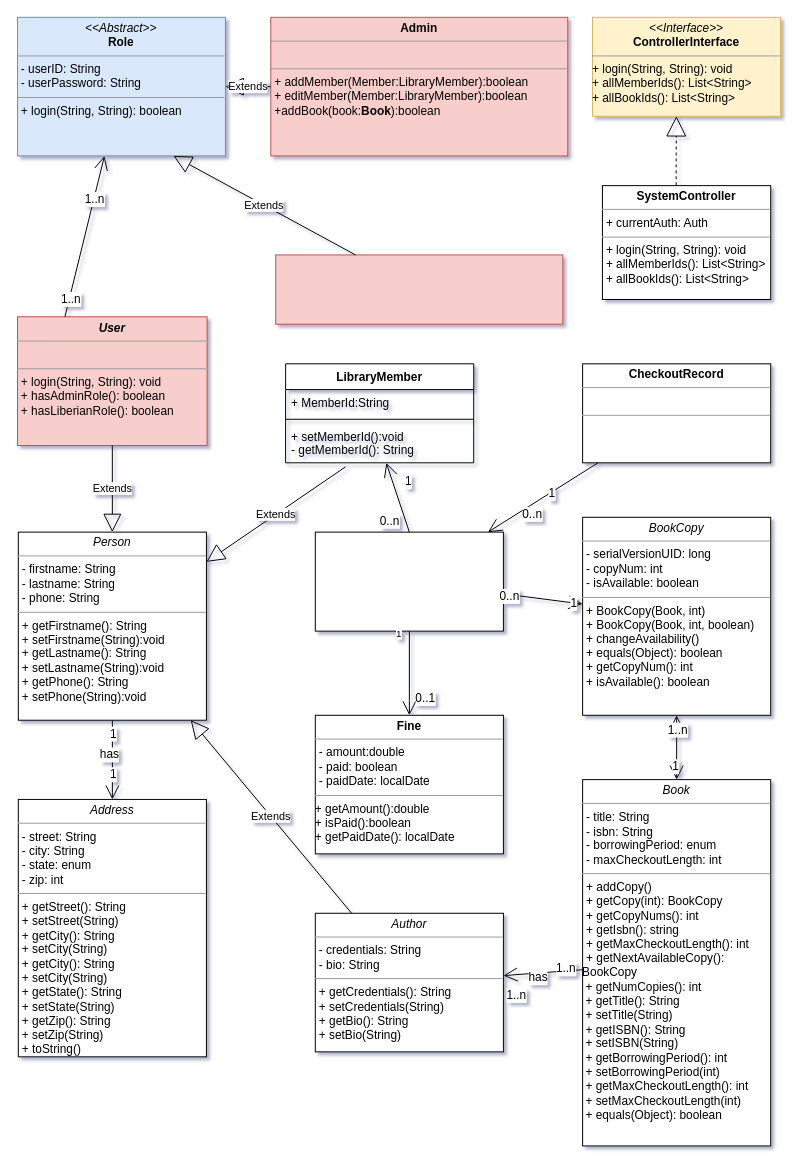
Some shapes in this 804 by 1169 pixel diagram are drawn without their labels. The shapes that lost their labels are listed below. From the top down, each one's centre as x and y in pixels, then its label:
At point 419,289: "Librarian + checkOutBook(BookCopy,LibaryMember):void".
At point 408,581: "CheckoutEntry + checkoutDate: Date + dueDate: Date + returnDate: Date".
